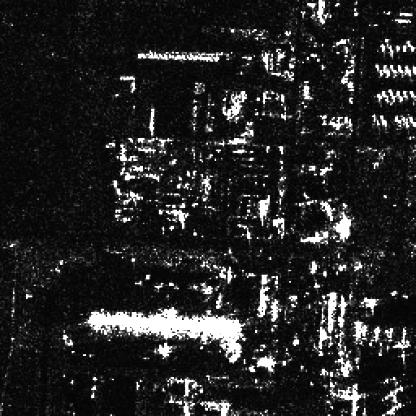airplane: (393, 42, 400, 56), (388, 94, 396, 106), (387, 42, 393, 56), (375, 92, 382, 102), (380, 89, 387, 99), (401, 89, 408, 99), (388, 63, 395, 73), (379, 113, 385, 124), (386, 87, 392, 98), (382, 61, 388, 72), (396, 61, 402, 72), (379, 41, 385, 52), (398, 112, 403, 124), (405, 37, 411, 47), (385, 68, 392, 76), (403, 119, 408, 130), (406, 113, 411, 124), (382, 118, 387, 128), (395, 118, 400, 128), (393, 66, 398, 76), (403, 63, 408, 73), (370, 114, 376, 122), (397, 94, 403, 102), (374, 62, 380, 70), (377, 68, 383, 76), (392, 113, 396, 124), (384, 36, 388, 47), (376, 118, 380, 128), (384, 94, 388, 104), (395, 90, 400, 98), (406, 68, 411, 76), (402, 42, 406, 52)
